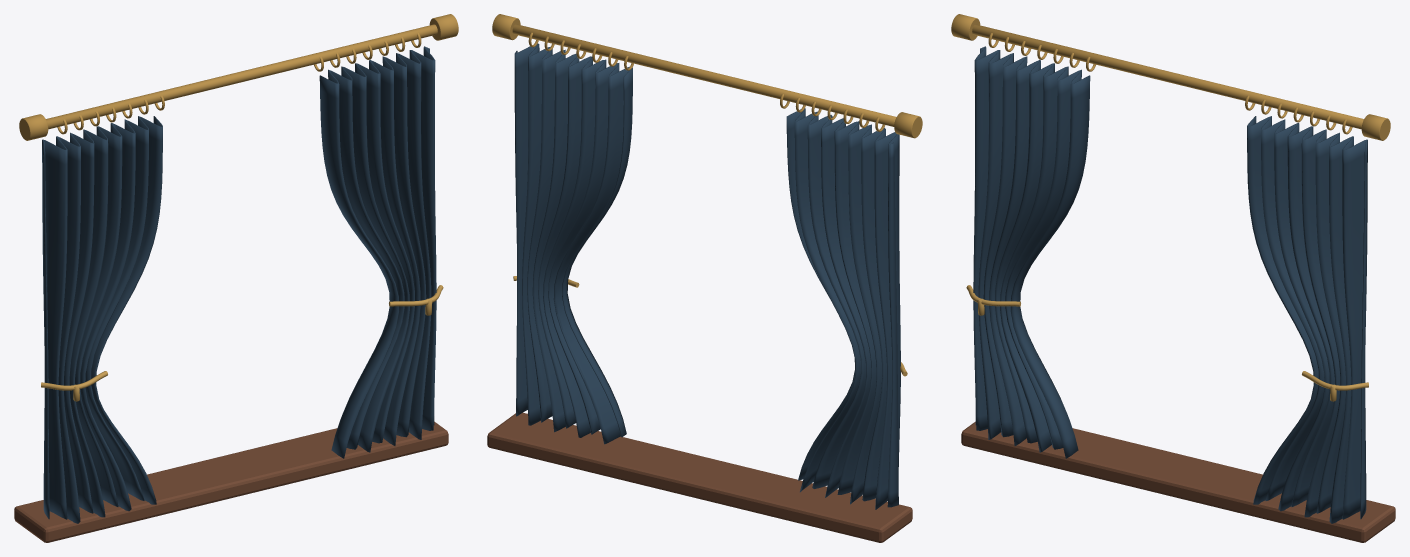
File: CurtainPair.fbx
3 views of the same model, side by side, from view 1: azimuth 30°, elevation 25°; view 2: azimuth 150°, elevation 25°; view 3: azimuth 330°, elevation 25° (orthographic). The views are drawn at different scales.
Visible parts, largest first — view 1: Pleated fabric left, Pleated fabric right, Wood window sill, Brass curtain rail, Rail finial, Rail finial.001; view 2: Pleated fabric right, Pleated fabric left, Wood window sill, Brass curtain rail, Rail finial, Rail finial.001; view 3: Pleated fabric right, Pleated fabric left, Wood window sill, Brass curtain rail, Rail finial.001, Rail finial.
Part boxes in pixels (box(x1,y1,x2,y2)): Pleated fabric left: box(42, 116, 162, 523); Pleated fabric right: box(319, 46, 436, 458); Wood window sill: box(14, 421, 448, 542); Brass curtain rail: box(46, 24, 437, 129); Rail finial: box(19, 114, 48, 140); Rail finial.001: box(429, 14, 458, 40); Pleated fabric right: box(514, 43, 632, 444); Pleated fabric left: box(786, 108, 900, 509); Wood window sill: box(487, 412, 912, 542); Brass curtain rail: box(512, 24, 896, 126); Rail finial: box(894, 112, 922, 138); Rail finial.001: box(492, 14, 520, 40); Pleated fabric right: box(1247, 116, 1367, 523); Pleated fabric left: box(973, 46, 1090, 458); Wood window sill: box(961, 421, 1395, 542); Brass curtain rail: box(972, 24, 1363, 129); Rail finial.001: box(1361, 114, 1390, 140); Rail finial: box(951, 14, 980, 40).
Bounding box in the file's own units: 1.66 × 1.57 × 0.2635.
